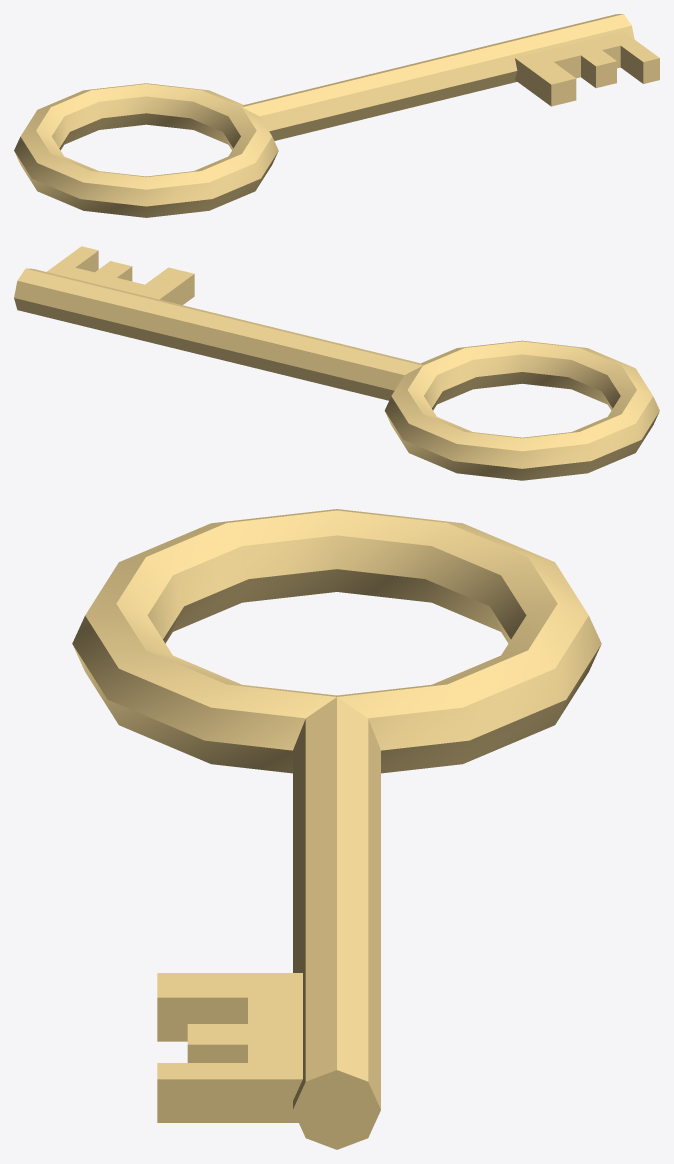
The model's file is goldkey.glb.
3 renders of one model, top to bottom at view 1: azimuth 30°, elevation 25°; view 2: azimuth 150°, elevation 25°; view 3: azimuth 270°, elevation 25°, orthographic. The views are drawn at different scales.
Visible parts, largest first — view 1: Key; view 2: Key; view 3: Key.
Boxes of the visible parts, x1,y1,x2,y2 form: Key: (14,14,659,217); Key: (14,246,659,480); Key: (72,509,601,1149).
Bounding box in the file's own units: 3.1 × 0.2 × 1.2.
Materials: 1 (1 with a texture image).
